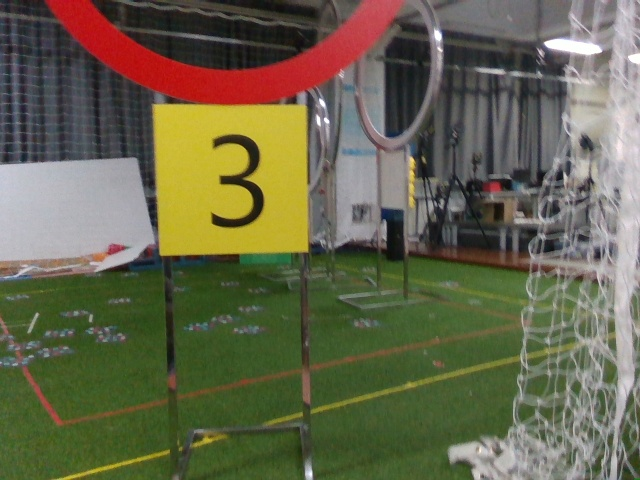target: (155, 110, 305, 251)
